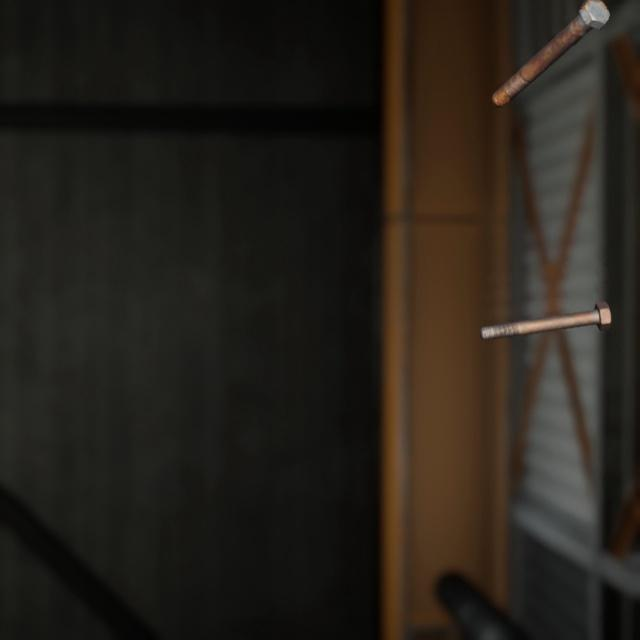bolt: (487, 0, 614, 101), (475, 279, 616, 327)
